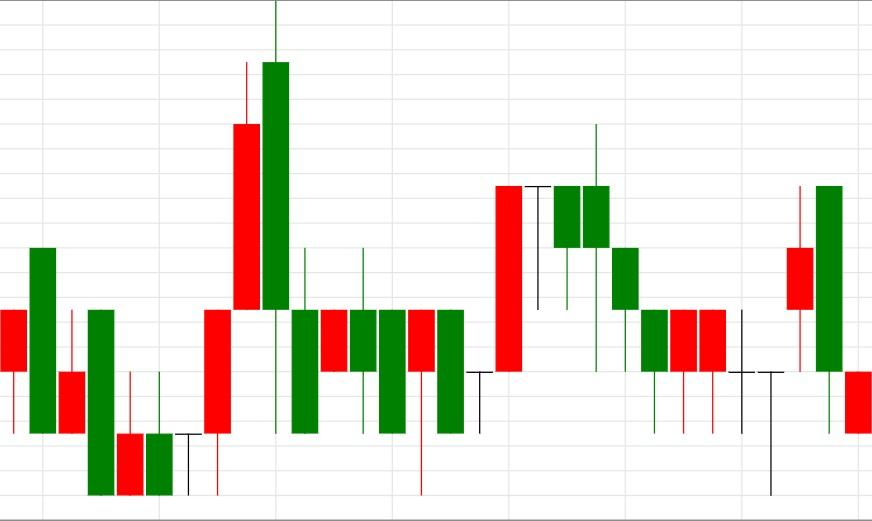bearish_engulfing_fall: (87, 0, 290, 496), (640, 185, 843, 496)
evening_star_fall: (407, 185, 581, 496)
